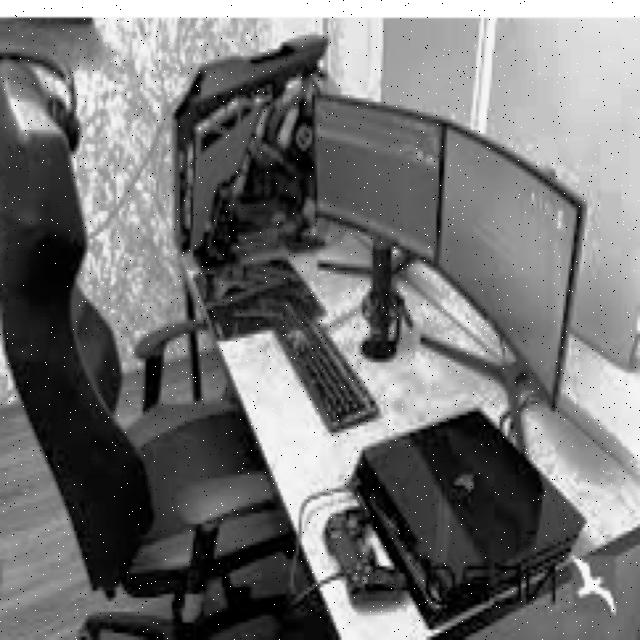book: (0, 56, 299, 640)
table: (180, 211, 640, 640)
